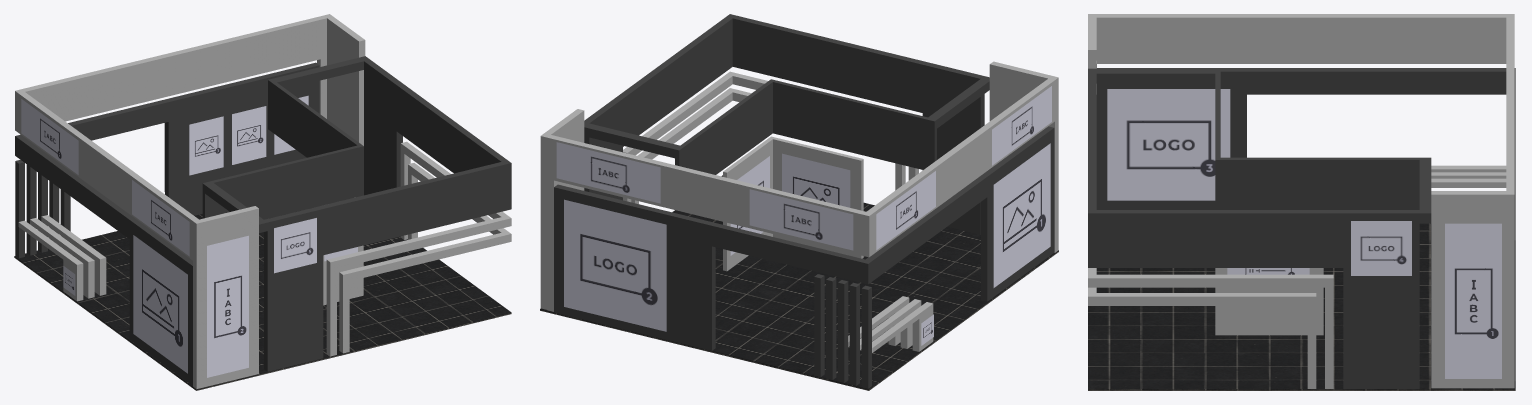
The model's file is stant37.gltf.
The picture shows the model from 3 angles, left to right: view 1: azimuth 30°, elevation 25°; view 2: azimuth 150°, elevation 25°; view 3: azimuth 270°, elevation 25°; orthographic projection. The views are drawn at different scales.
Visible parts, largest first — view 1: modrenk1, modrenk2, modkaro, moddikyazi2, modgorsel1, modyazi1, modyazi2, modlogo5, moddikgorsel3, moddikgorsel2; view 2: modrenk1, modrenk2, modkaro, modlogo2, modgorsel1, modyazi3, modyazi4, modgorsel4, modyazi2, modyazi1, modgorsel5; view 3: modrenk1, modrenk2, modkaro, modlogo3, moddikyazi1, modlogo4, modvideo1.
Boxes of the visible parts, x1,y1,x2,y2 form: modrenk1: [15, 56, 511, 385]; modrenk2: [15, 14, 511, 389]; modkaro: [14, 214, 511, 390]; moddikyazi2: [207, 235, 248, 377]; modgorsel1: [133, 235, 187, 373]; modyazi1: [132, 180, 189, 256]; modyazi2: [21, 99, 78, 174]; modlogo5: [274, 218, 316, 273]; moddikgorsel3: [189, 116, 223, 175]; moddikgorsel2: [232, 106, 266, 164]; modrenk1: [554, 14, 1054, 388]; modrenk2: [540, 61, 1058, 352]; modkaro: [540, 175, 1058, 390]; modlogo2: [564, 199, 666, 331]; modgorsel1: [993, 143, 1050, 287]; modyazi3: [556, 142, 660, 203]; modyazi4: [749, 189, 853, 250]; modgorsel4: [782, 153, 850, 207]; modyazi2: [876, 171, 935, 250]; modyazi1: [992, 86, 1051, 165]; modgorsel5: [730, 156, 769, 255]; modrenk1: [1088, 68, 1515, 388]; modrenk2: [1088, 14, 1514, 388]; modkaro: [1088, 223, 1515, 390]; modlogo3: [1107, 89, 1230, 200]; moddikyazi1: [1445, 223, 1501, 378]; modlogo4: [1351, 221, 1411, 275]; modvideo1: [1227, 268, 1309, 274].
Size of the model in its own units: 1.01 by 0.5069 by 1.01.
23 materials, 21 textured.
